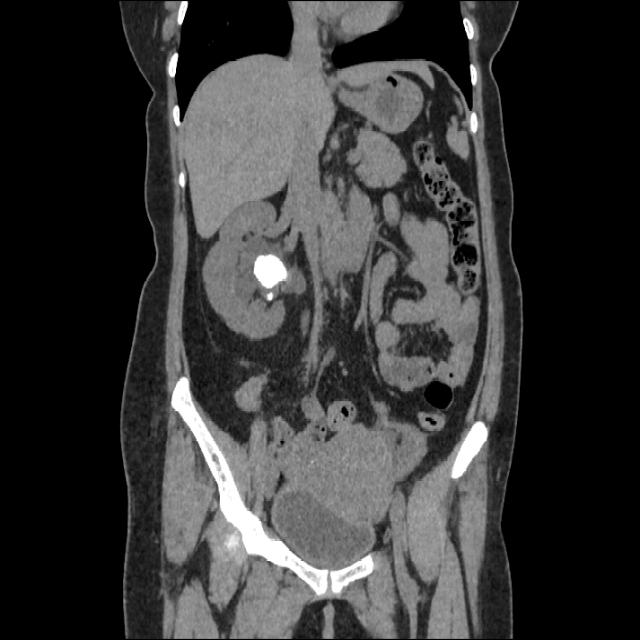kidney: (237, 225, 287, 325)
stone: (257, 260, 282, 280), (268, 293, 272, 300)
